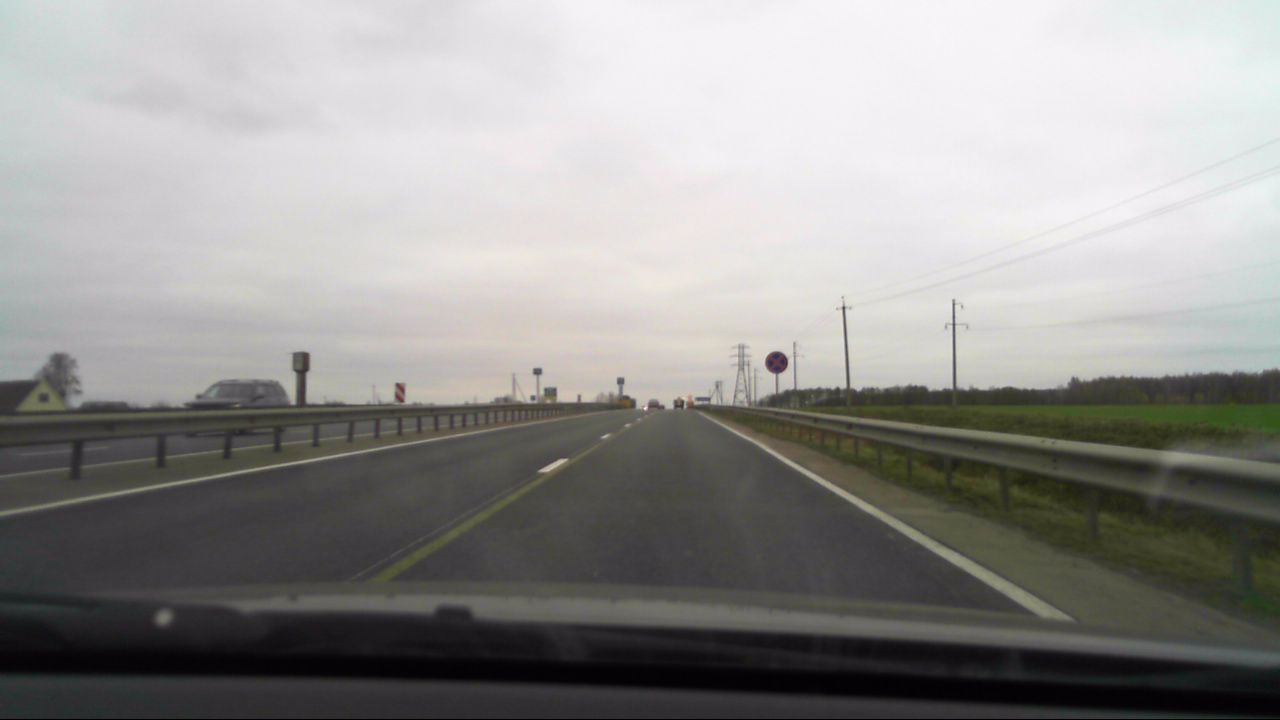No Parking: (763, 349, 789, 375)
